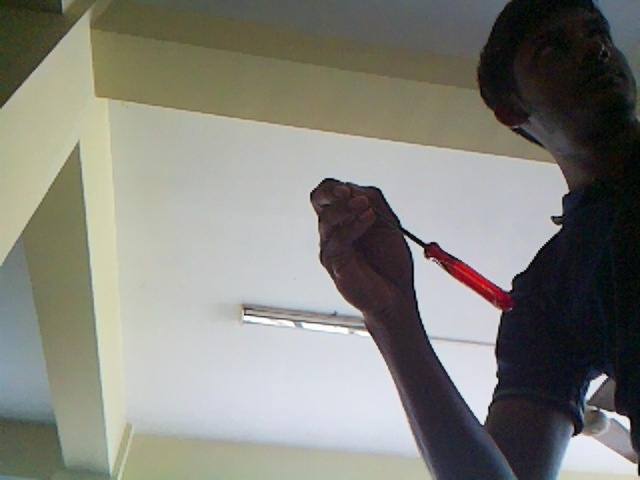redskrew: (396, 226, 524, 322)
